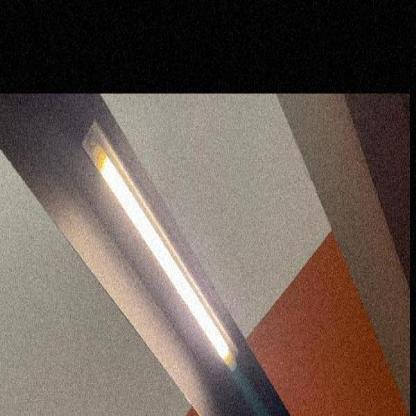light_on: (72, 114, 253, 404)
